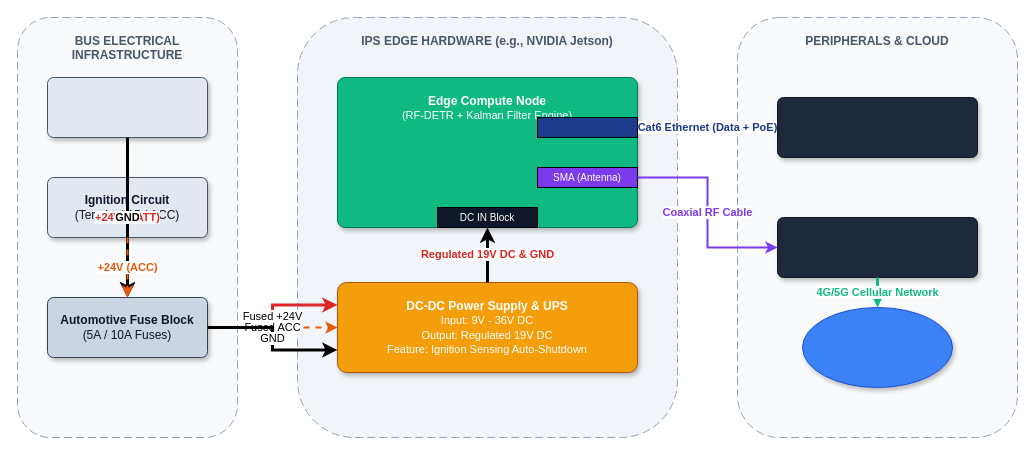
The diagram is 1035 pixels wide and 455 high, and some of its shapes have lost their labels. Here are the shapes that lost their labels. From the top down, the centre of each, then its label:
At pixel 128 108: "Bus Main Battery 24V DC".
At pixel 587 127: "RJ45 / M12 (PoE)".
At pixel 878 128: "Onboard IP CCTV Camera Power over Ethernet (PoE)".
At pixel 878 248: "LTE / 4G Roof Antenna MIMO / FAKRA".
At pixel 878 348: "Stratio Cloud API (Cellular Telemetry Payload)".
